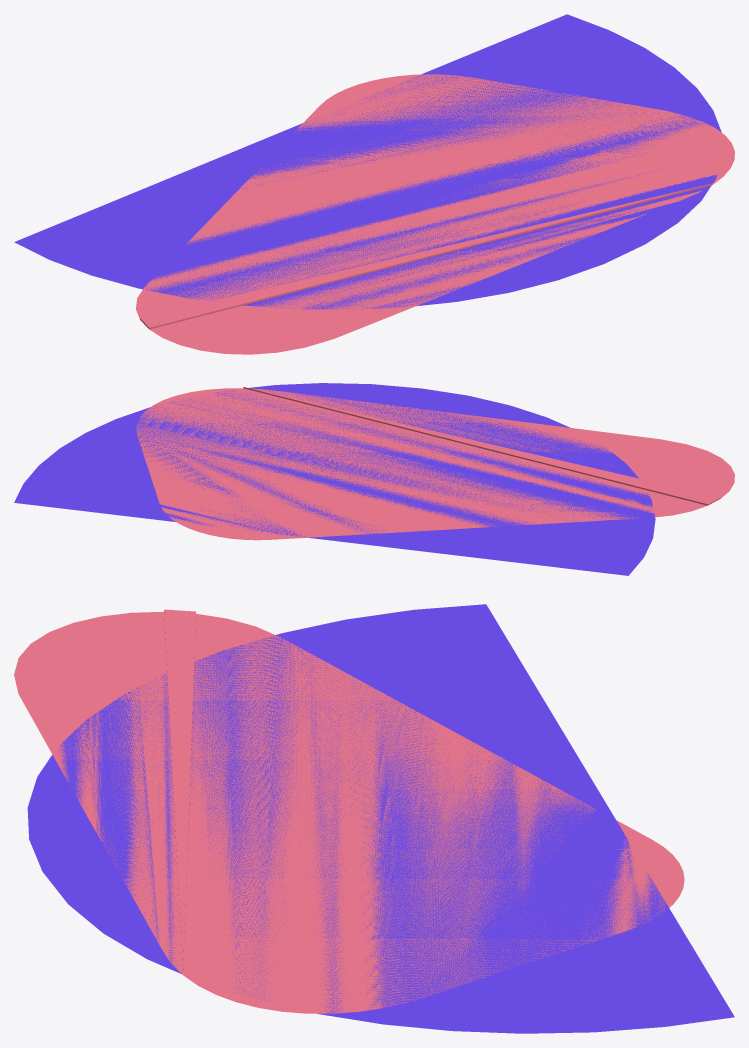
The picture shows the model from 3 angles, top to bottom: view 1: azimuth 30°, elevation 25°; view 2: azimuth 150°, elevation 25°; view 3: azimuth 270°, elevation 25°; orthographic projection. The views are drawn at different scales.
Parts seen in each view (by area): view 1: shape1, shape2; view 2: shape2, shape1; view 3: shape1, shape2.
Part boxes in pixels (<box>): shape1: <box>14,14,721,309</box>; shape2: <box>136,74,734,354</box>; shape2: <box>136,387,734,540</box>; shape1: <box>14,383,655,575</box>; shape1: <box>27,604,734,1033</box>; shape2: <box>14,609,684,1013</box>.
Size of the model in its own units: 0.054 by 0.000131 by 0.0383.
